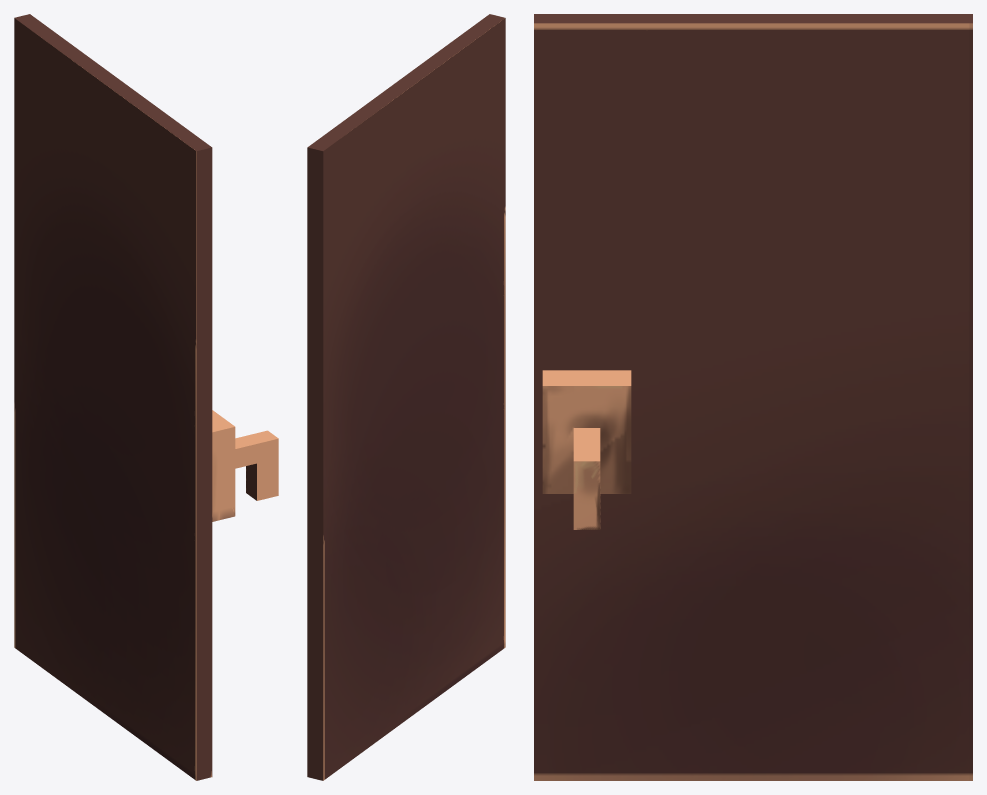
File: Puerta.fbx
3 renders of one model, left to right at view 1: azimuth 30°, elevation 25°; view 2: azimuth 150°, elevation 25°; view 3: azimuth 270°, elevation 25°, orthographic. The views are drawn at different scales.
Parts seen in each view (by area): view 1: Cube; view 2: Cube; view 3: Cube.
Part boxes in pixels (x1,y1,x2,y2): Cube: (14,14,278,780); Cube: (307,14,505,780); Cube: (534,14,972,780).
Size of the model in its own units: 143 by 874 by 458.
1 material, 1 textured.
